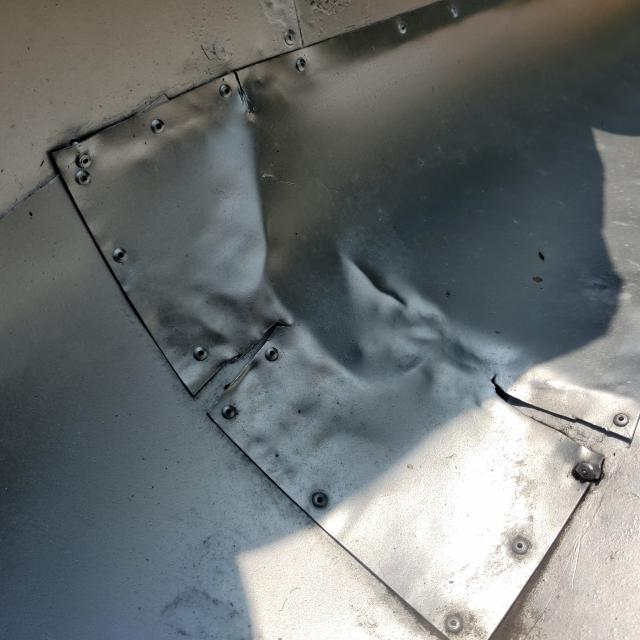crack: (482, 361, 640, 474), (180, 300, 305, 430), (219, 61, 273, 126)
dent: (192, 62, 533, 397)
